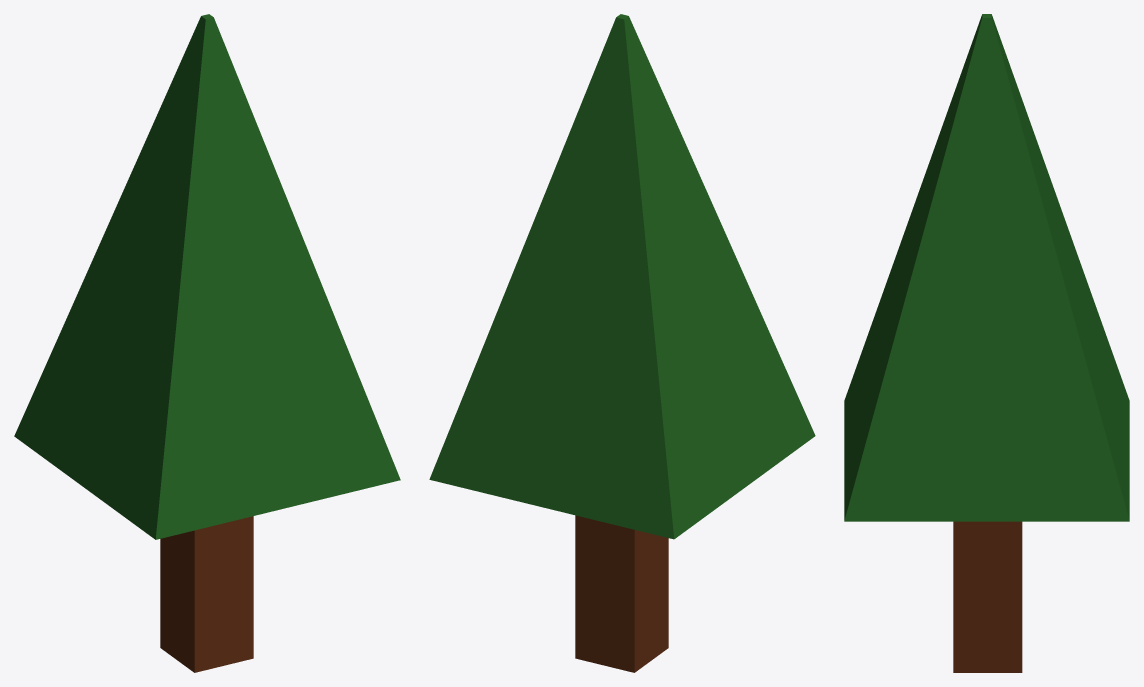
Rendered from Tree_01.fbx.
3 renders of one model, left to right at view 1: azimuth 30°, elevation 25°; view 2: azimuth 150°, elevation 25°; view 3: azimuth 270°, elevation 25°, orthographic.
Parts seen in each view (by area): view 1: Cube.001; view 2: Cube.001; view 3: Cube.001.
Part boxes in pixels (x1=…): Cube.001: x1=14, y1=14, x2=400, y2=672; Cube.001: x1=429, y1=14, x2=815, y2=672; Cube.001: x1=844, y1=14, x2=1129, y2=672.
Size of the model in its own units: 125 by 310 by 125.
